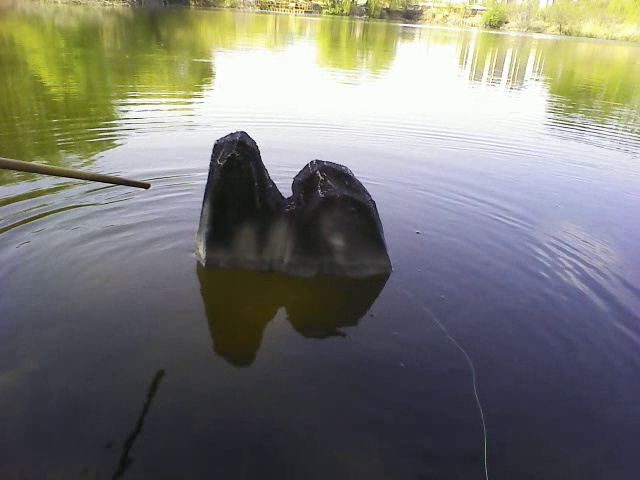rock: (192, 128, 396, 282)
